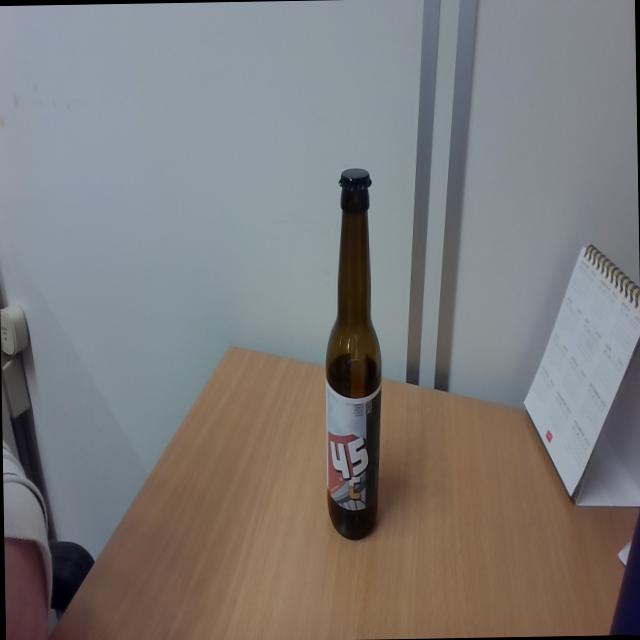Bottle: (320, 166, 385, 544)
Cap: (337, 167, 374, 192)
Label: (324, 384, 381, 510)
